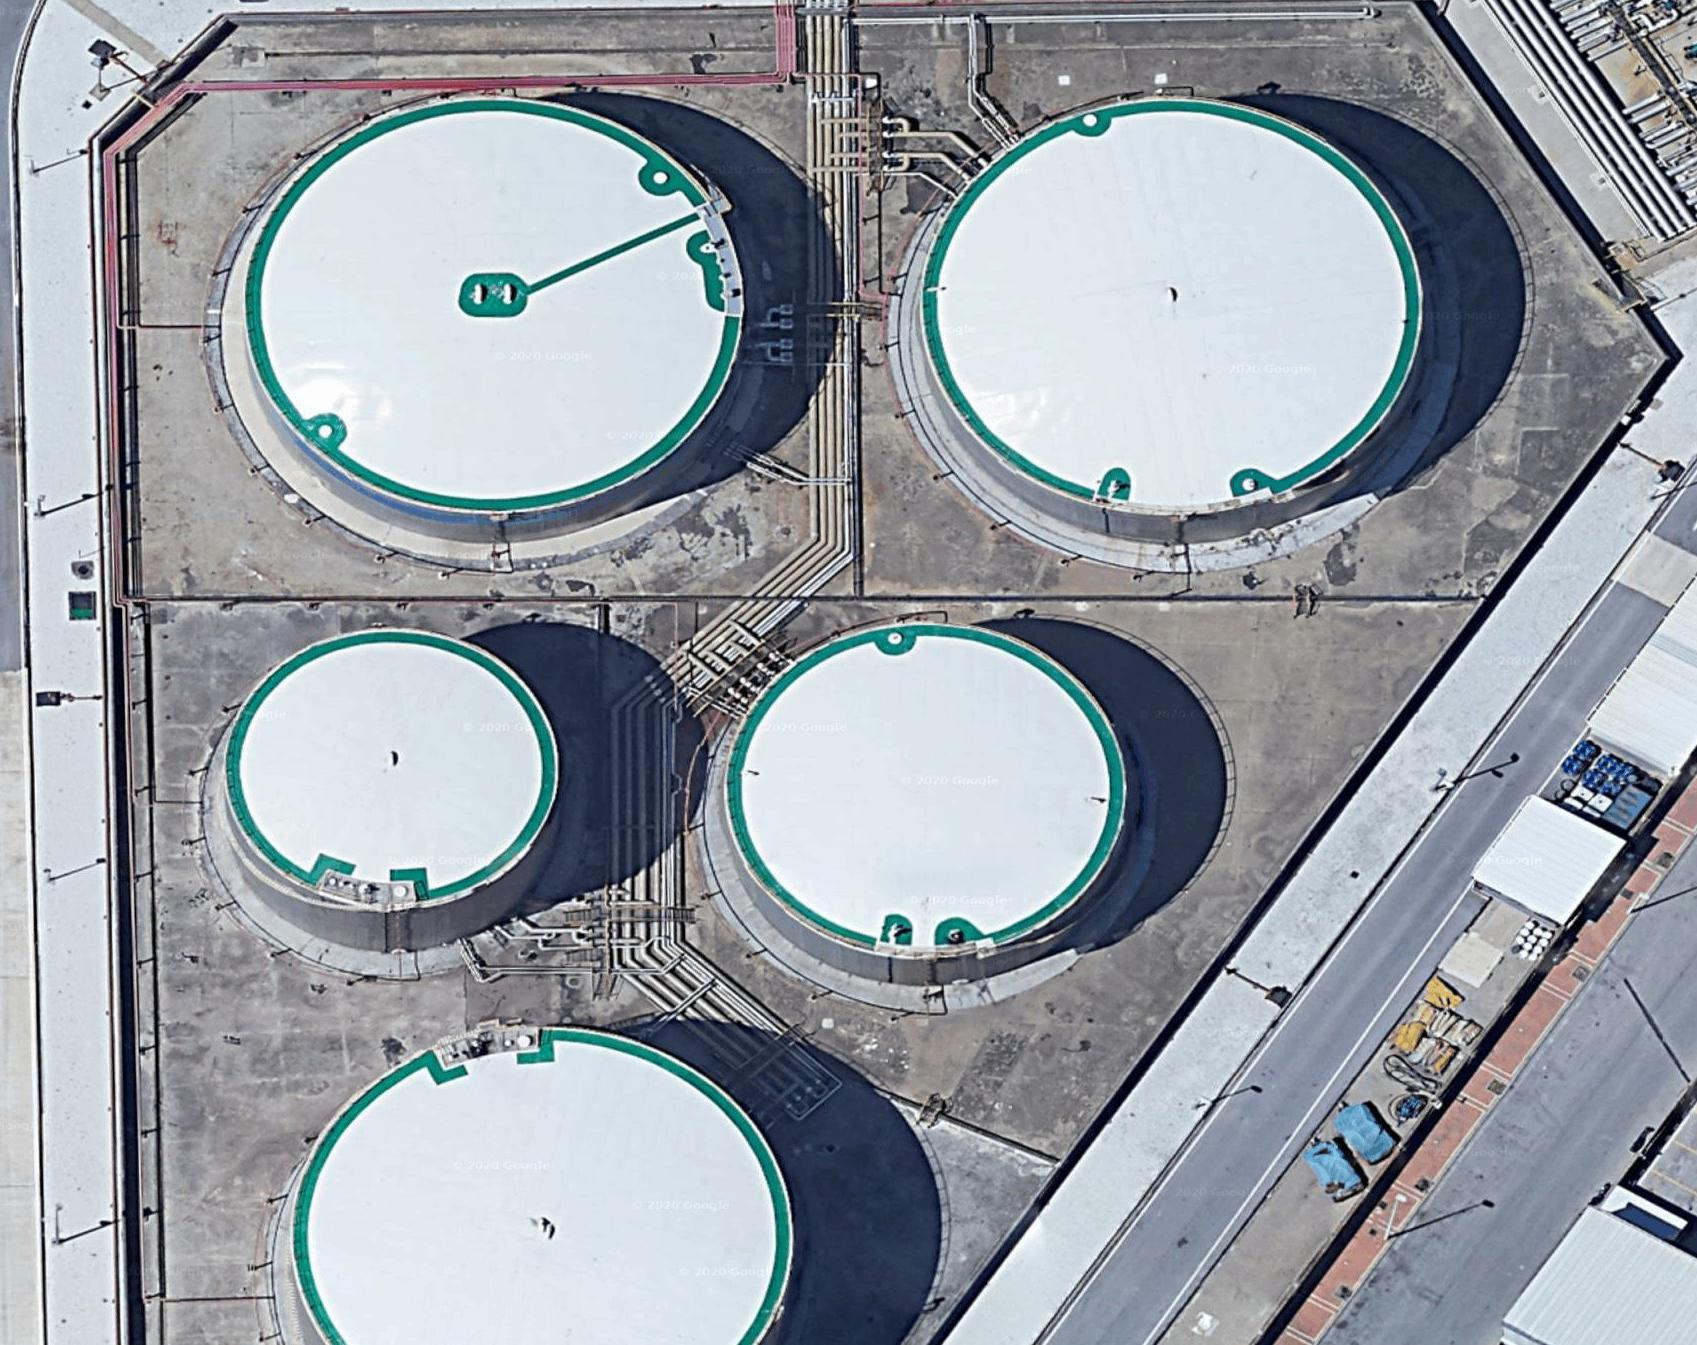storage-tank: (899, 81, 1463, 533), (226, 81, 789, 533), (260, 1005, 810, 1345), (714, 610, 1147, 976), (219, 624, 573, 927)
